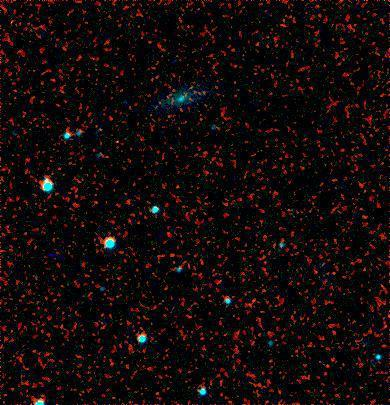star: (33, 158, 63, 188)
